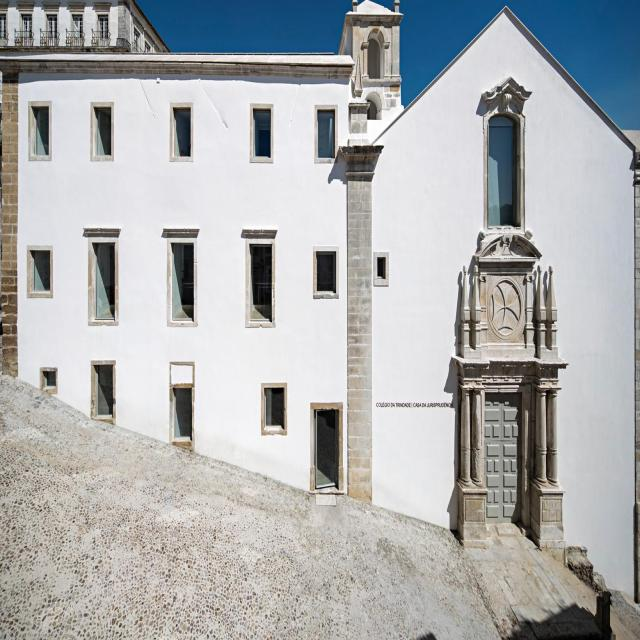door: (484, 392, 522, 522)
window: (488, 111, 516, 225), (315, 410, 339, 487), (251, 245, 271, 310), (181, 241, 195, 306), (176, 385, 192, 438), (96, 364, 112, 417), (319, 109, 334, 157), (317, 252, 336, 289), (255, 109, 269, 158), (264, 389, 284, 422), (96, 108, 110, 155), (36, 108, 50, 155), (107, 245, 116, 307), (176, 109, 189, 150), (36, 253, 49, 289)
